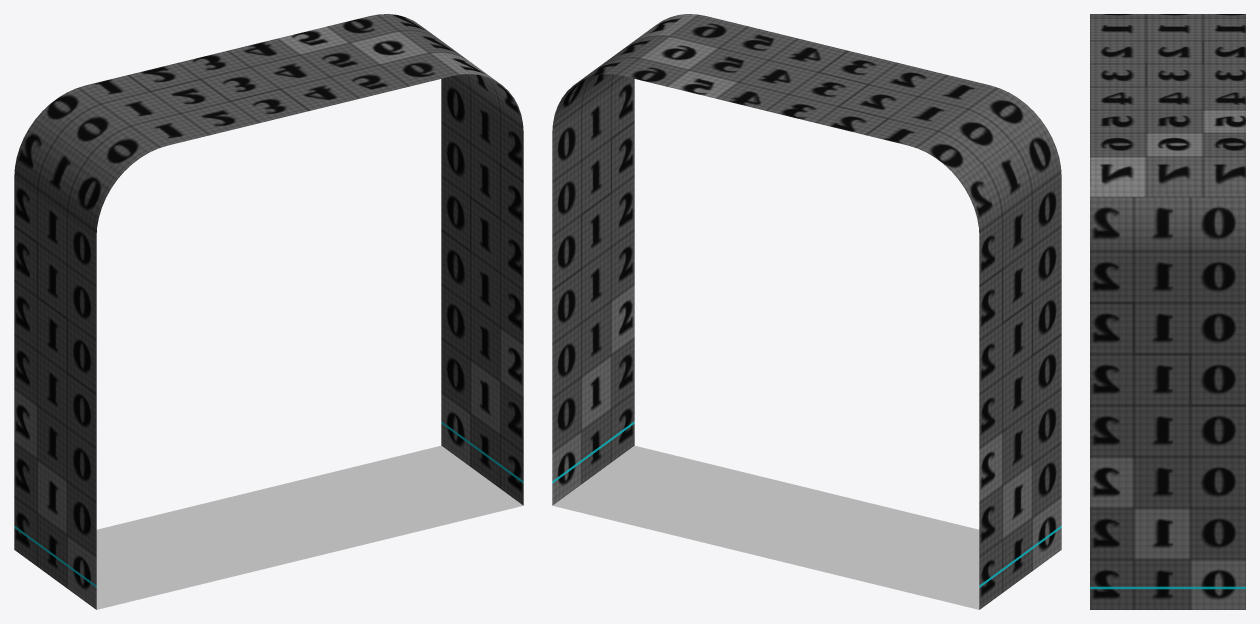
File: WallFrameRound300x300x100cm.FBX
3 views of the same model, side by side, from view 1: azimuth 30°, elevation 25°; view 2: azimuth 150°, elevation 25°; view 3: azimuth 270°, elevation 25° (orthographic). The views are drawn at different scales.
Parts seen in each view (by area): view 1: WallFrameRound300x100cm; view 2: WallFrameRound300x100cm; view 3: WallFrameRound300x100cm.
Boxes of the visible parts, <box> form: WallFrameRound300x100cm: <box>14,14,523,609</box>; WallFrameRound300x100cm: <box>552,14,1061,609</box>; WallFrameRound300x100cm: <box>1090,14,1245,609</box>.
Bounding box in the file's own units: 300 × 300 × 100.
